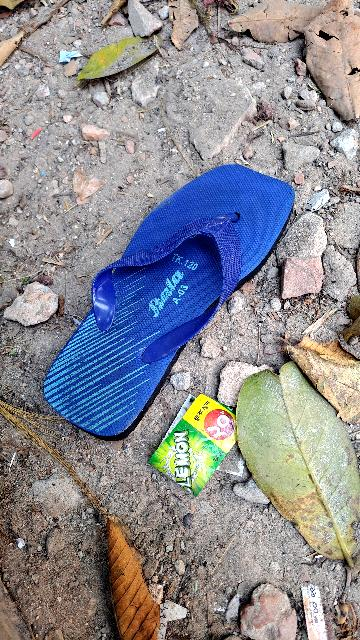sandal: (31, 134, 308, 454)
